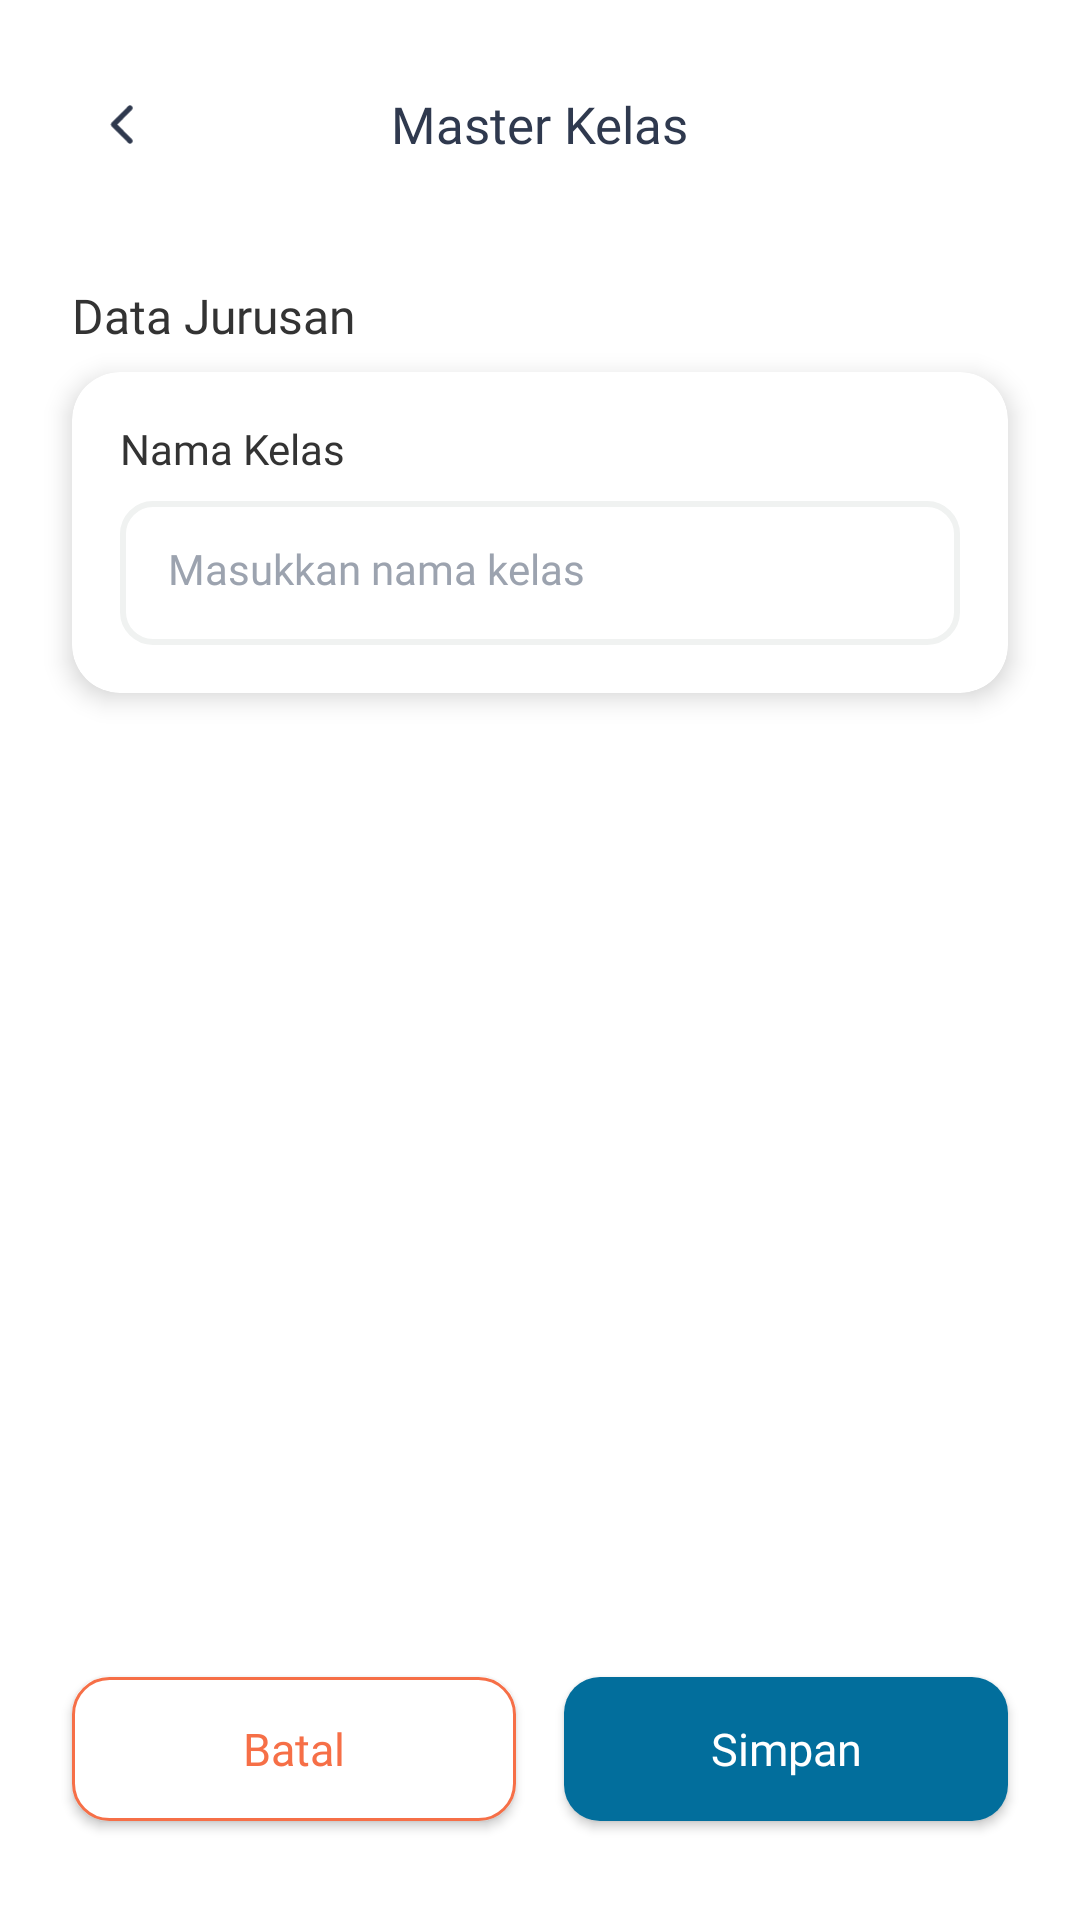

Named icons in this screenshot (1080 x 1920) and their centers, (x,y):
chevron back: (121,124)
